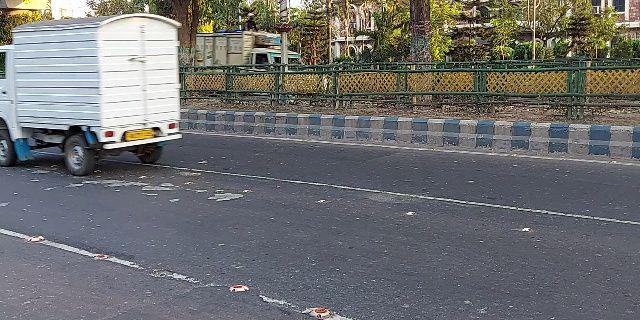Minitruck: (1, 14, 190, 183)
